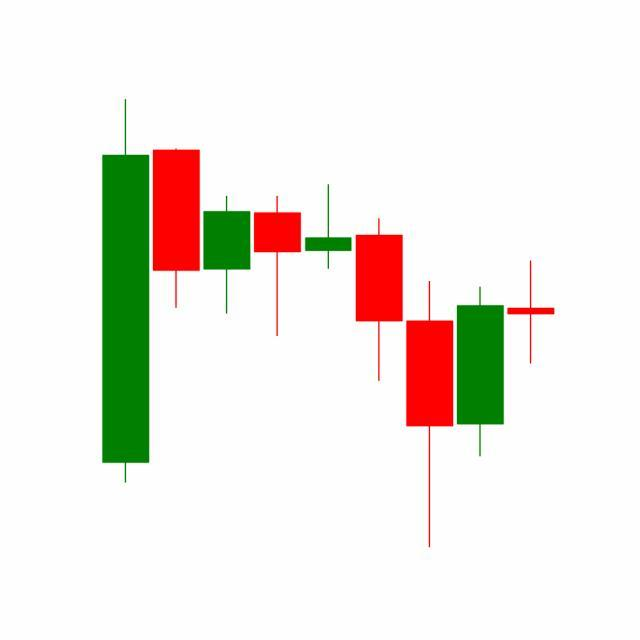Hikkake Pattern: (302, 180, 555, 549)
